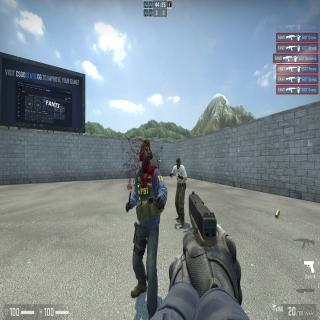CT-Body: (134, 139, 160, 306)
T-Body: (174, 158, 186, 217)
T-Head: (141, 139, 151, 167), (176, 156, 181, 168)
